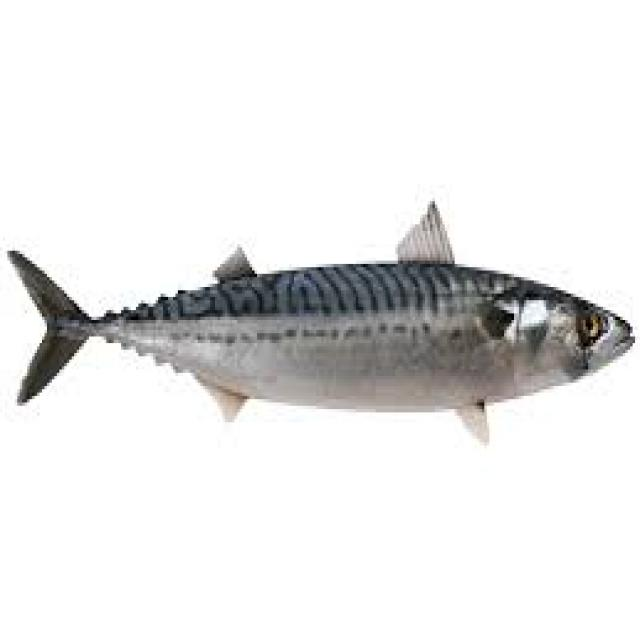fish: (8, 203, 636, 445)
